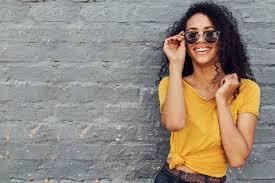sunglasses: (181, 28, 222, 48)
